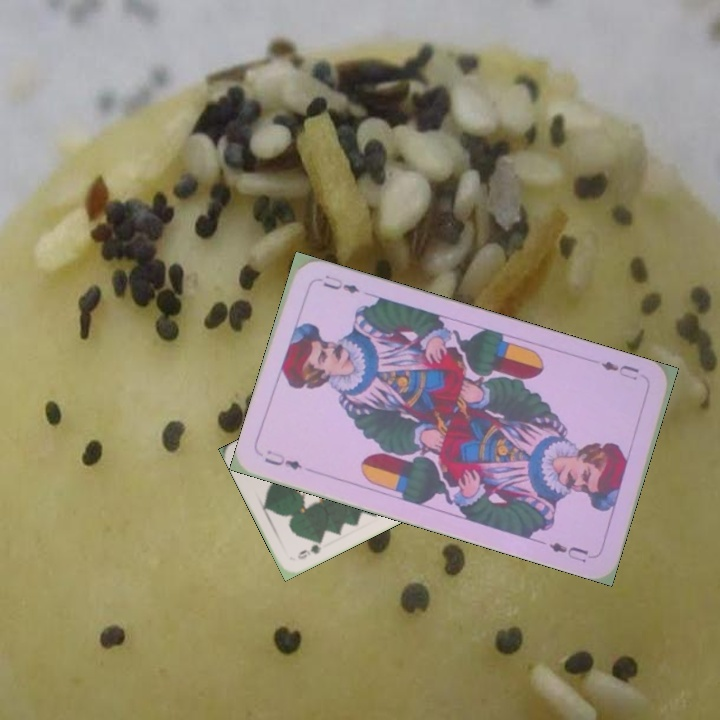EU: (260, 445, 305, 473), (595, 357, 642, 383)
G9: (294, 536, 326, 562)
